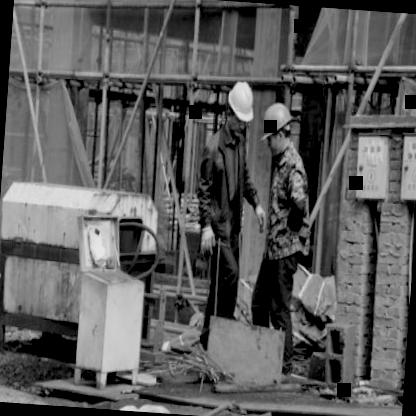helmet: (221, 78, 258, 138), (260, 99, 298, 156)
